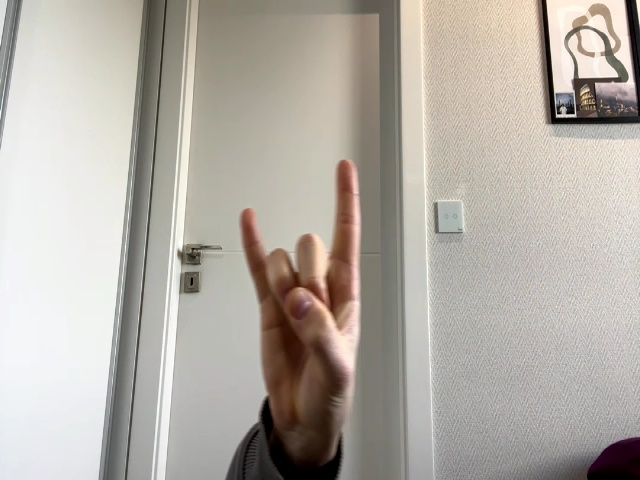Y: (241, 159, 361, 421)
